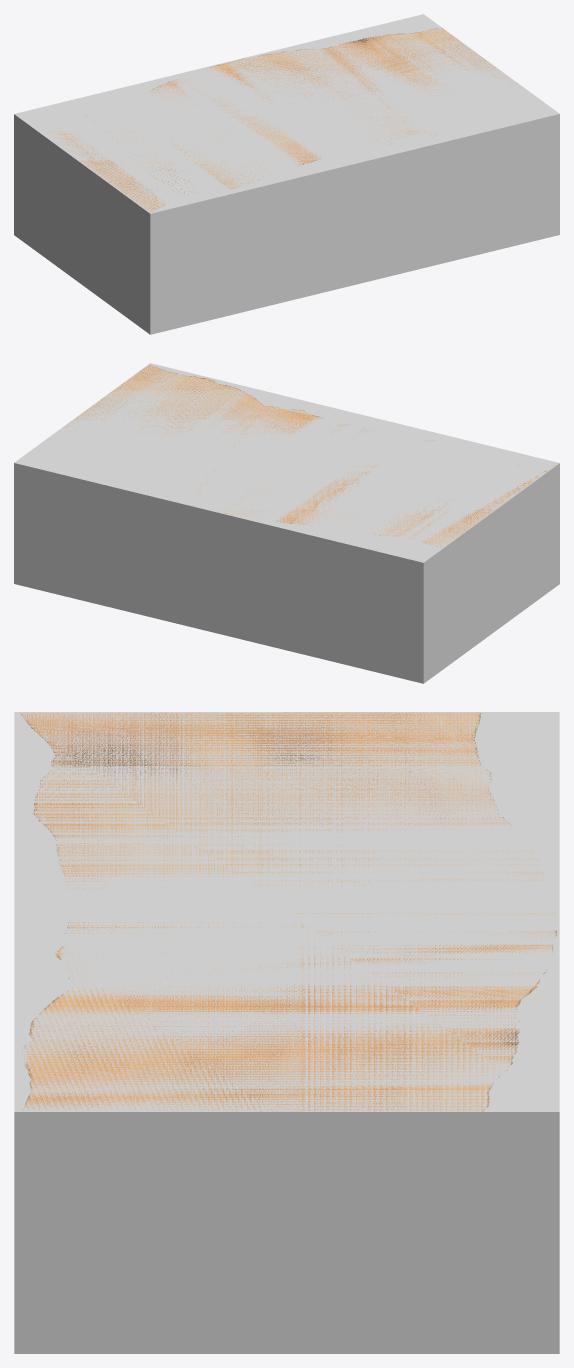
File: Dojo_Table.gltf
The picture shows the model from 3 angles, top to bottom: view 1: azimuth 30°, elevation 25°; view 2: azimuth 150°, elevation 25°; view 3: azimuth 270°, elevation 25°; orthographic projection. The views are drawn at different scales.
Visible parts, largest first — view 1: natural_display_table_04_mesh.001_bcol, natural_display_table_04_mesh.001; view 2: natural_display_table_04_mesh.001_bcol, natural_display_table_04_mesh.001; view 3: natural_display_table_04_mesh.001_bcol, natural_display_table_04_mesh.001.
Boxes of the visible parts, bbox=[...] form: natural_display_table_04_mesh.001_bcol: bbox=[14, 14, 559, 334]; natural_display_table_04_mesh.001: bbox=[48, 28, 513, 211]; natural_display_table_04_mesh.001_bcol: bbox=[14, 363, 559, 683]; natural_display_table_04_mesh.001: bbox=[64, 365, 555, 547]; natural_display_table_04_mesh.001_bcol: bbox=[14, 712, 559, 1353]; natural_display_table_04_mesh.001: bbox=[20, 712, 556, 1111].
Bounding box in the file's own units: 2.4 × 0.6785 × 1.39.
Materials: 1 (1 with a texture image).
